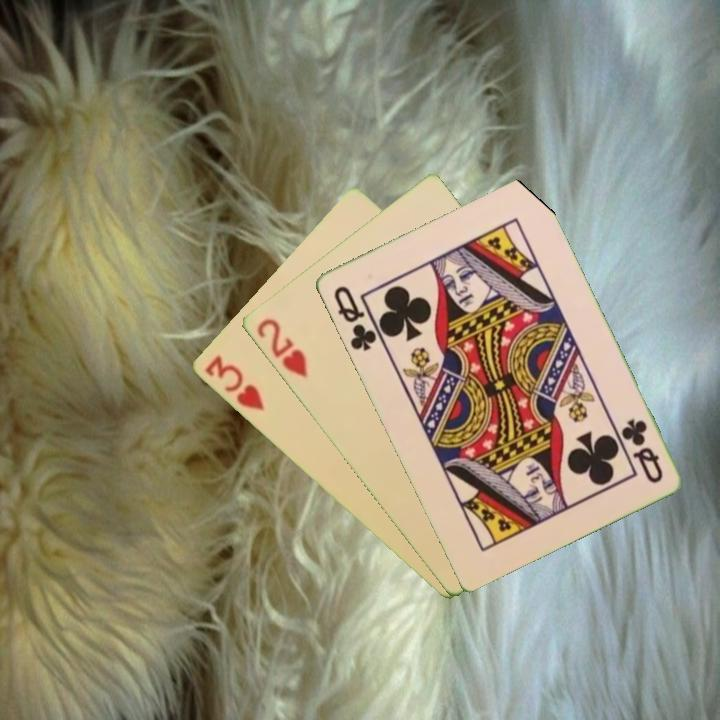2h: (252, 314, 310, 381)
3h: (200, 351, 267, 414)
Qc: (329, 282, 379, 354), (617, 415, 666, 487)
